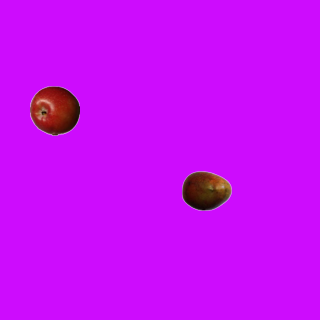Apple Braeburn: (29, 85, 79, 135)
Mango Red: (181, 165, 231, 215)
